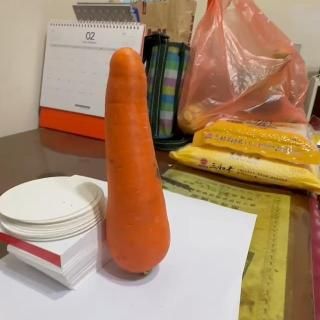carrot: (104, 48, 174, 276)
